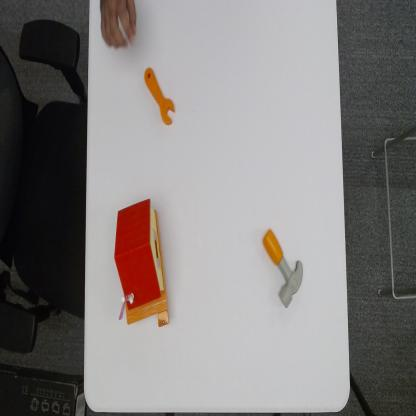Hammer: (261, 227, 304, 309)
Hand: (97, 0, 141, 54)
House: (113, 196, 170, 330)
Screwdriver: (142, 66, 176, 128)
